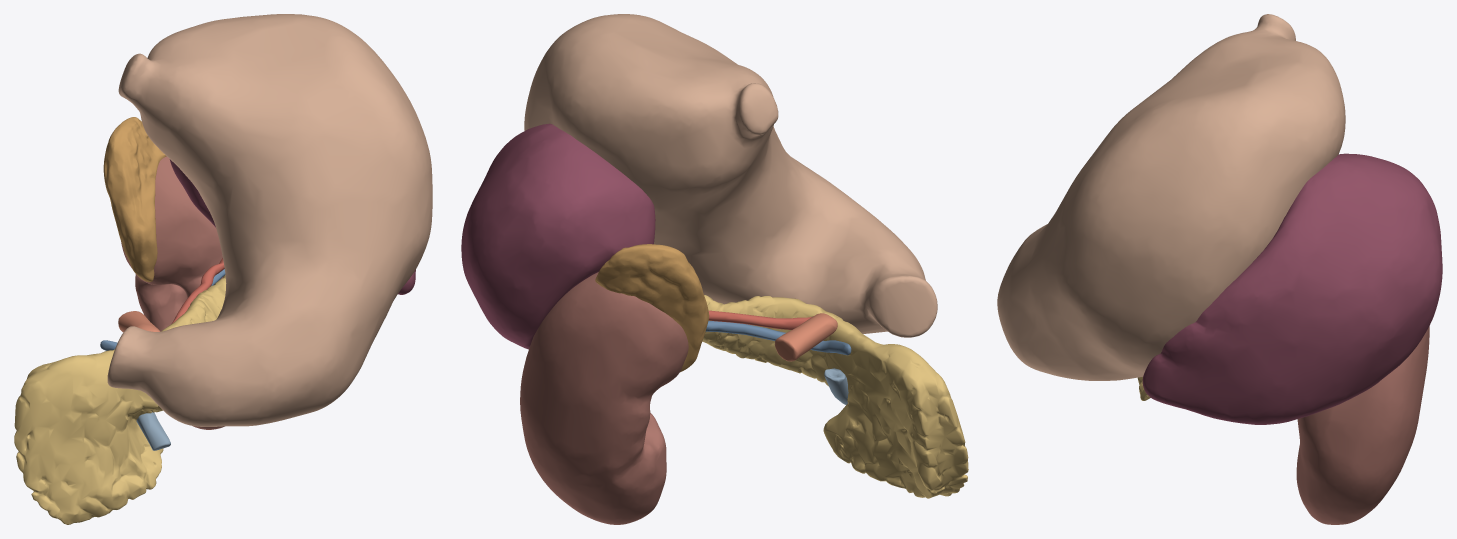
File: spleen.glb
3 views of the same model, side by side, from view 1: azimuth 30°, elevation 25°; view 2: azimuth 150°, elevation 25°; view 3: azimuth 270°, elevation 25° (orthographic). The views are drawn at different scales.
Visible parts, largest first — view 1: stomach, pancreas, left-kidney, left-adrenal, spleen, superior-mesenteric-vein, splenic-artery, celiac-trunk; view 2: stomach, left-kidney, spleen, pancreas, left-adrenal, celiac-trunk, splenic-vein, splenic-artery, superior-mesenteric-vein; view 3: stomach, spleen, left-kidney.
Part boxes in pixels (x1,y1,x2,y2): stomach: (107, 14, 432, 426); pancreas: (14, 275, 226, 524); left-kidney: (121, 156, 224, 429); left-adrenal: (103, 117, 166, 282); spleen: (169, 159, 415, 294); superior-mesenteric-vein: (136, 412, 170, 450); splenic-artery: (171, 258, 224, 323); celiac-trunk: (118, 311, 160, 332); stomach: (524, 14, 937, 337); left-kidney: (520, 272, 688, 524); spleen: (461, 123, 655, 349); pancreas: (702, 295, 968, 498); left-adrenal: (595, 244, 709, 372); celiac-trunk: (774, 313, 837, 361); splenic-vein: (705, 321, 851, 355); splenic-artery: (708, 310, 811, 329); superior-mesenteric-vein: (824, 368, 848, 404); stomach: (997, 14, 1345, 380); spleen: (1142, 153, 1442, 424); left-kidney: (1296, 326, 1429, 524).
Size of the model in its own units: 3.38 by 3.34 by 2.95.
